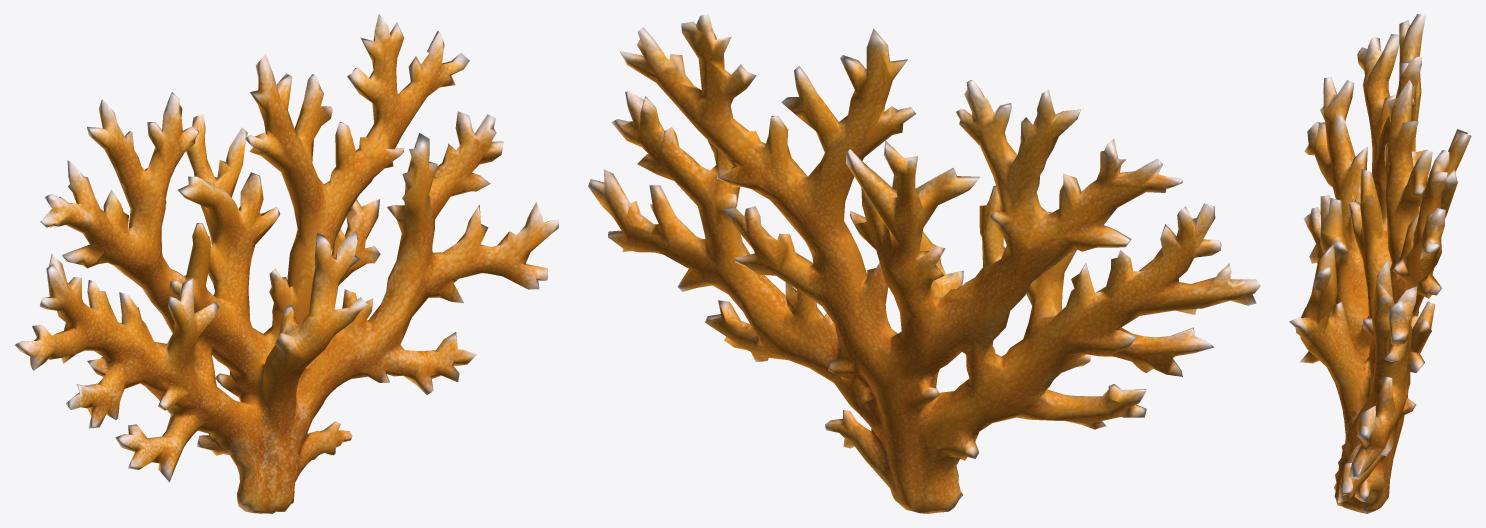
Rendered from StaghornCoral.obj.
3 views of the same model, side by side, from view 1: azimuth 30°, elevation 25°; view 2: azimuth 150°, elevation 25°; view 3: azimuth 270°, elevation 25° (orthographic). The views are drawn at different scales.
Size of the model in its own units: 1 by 0.7353 by 0.2752.
Materials: 1 (1 with a texture image).
